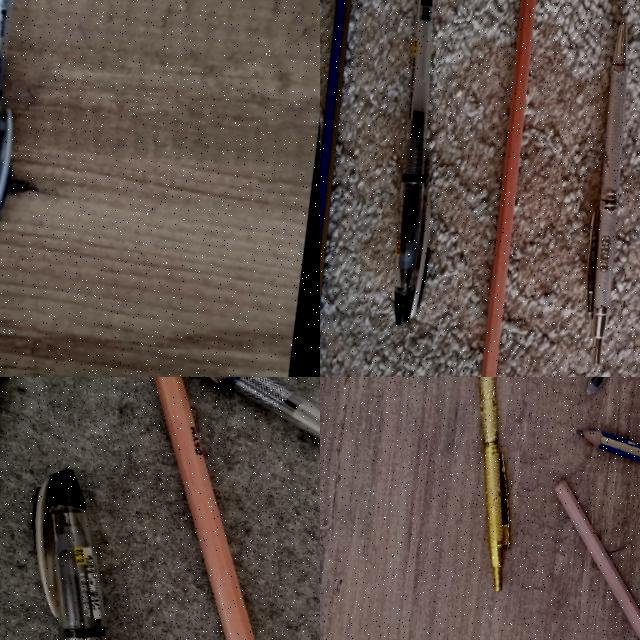4: (585, 23, 628, 363)
pen: (0, 468, 170, 640), (377, 0, 456, 325)
pencil: (156, 377, 257, 640), (480, 0, 536, 377), (320, 0, 371, 350), (555, 480, 640, 640), (568, 427, 640, 531)
signature pen: (440, 377, 534, 590), (585, 24, 628, 363)
